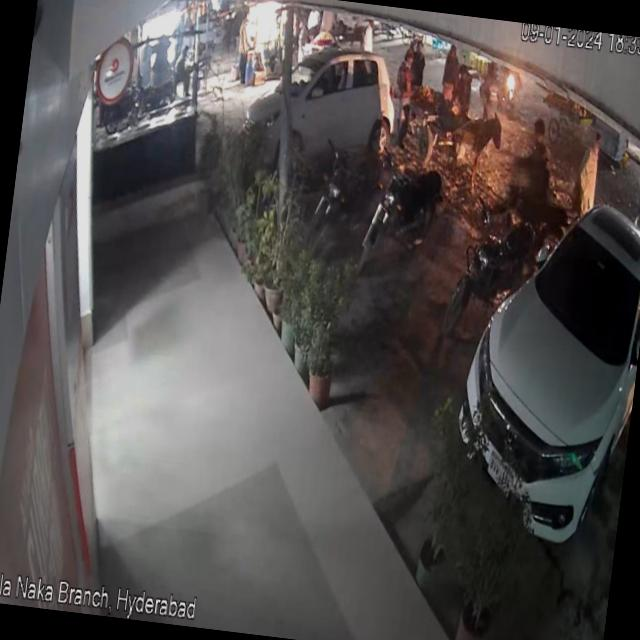Car: (442, 169, 640, 569), (237, 39, 419, 190)
Motorcycle: (359, 141, 453, 289), (438, 196, 520, 341), (308, 144, 383, 262)
